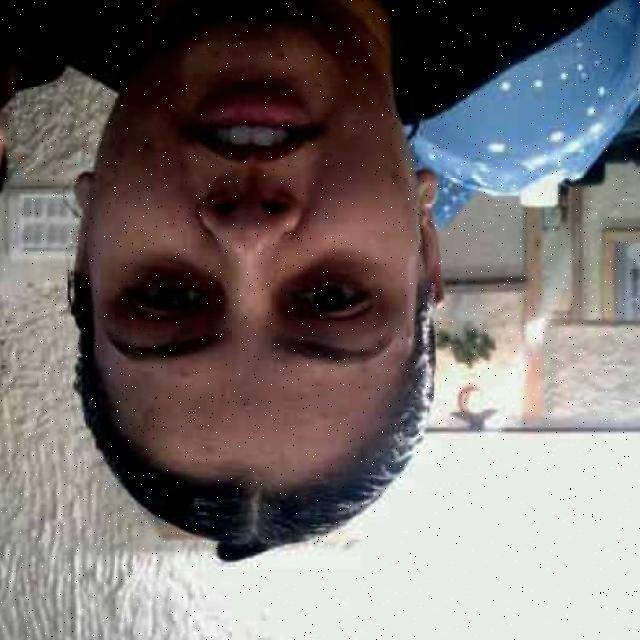puffy_eyes: (132, 262, 225, 325), (283, 257, 372, 296)
